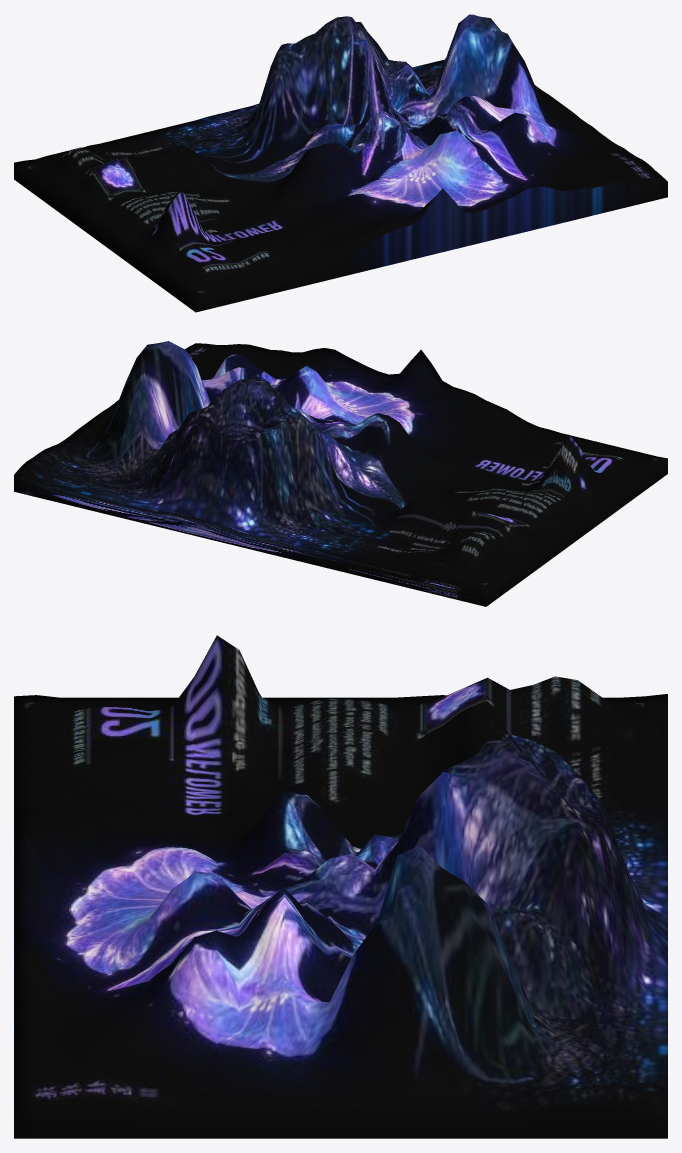
The model's file is HERB_02_Moonflower.glb.
The picture shows the model from 3 angles, top to bottom: view 1: azimuth 30°, elevation 25°; view 2: azimuth 150°, elevation 25°; view 3: azimuth 270°, elevation 25°; orthographic projection. The views are drawn at different scales.
Visible parts, largest first — view 1: HERB_02_Moonflower; view 2: HERB_02_Moonflower; view 3: HERB_02_Moonflower.
Part boxes in pixels (x1,y1,x2,y2): HERB_02_Moonflower: [14, 14, 667, 312]; HERB_02_Moonflower: [14, 341, 667, 606]; HERB_02_Moonflower: [14, 635, 667, 1138].
Size of the model in its own units: 2 by 0.51 by 1.33.
Materials: 1 (1 with a texture image).
